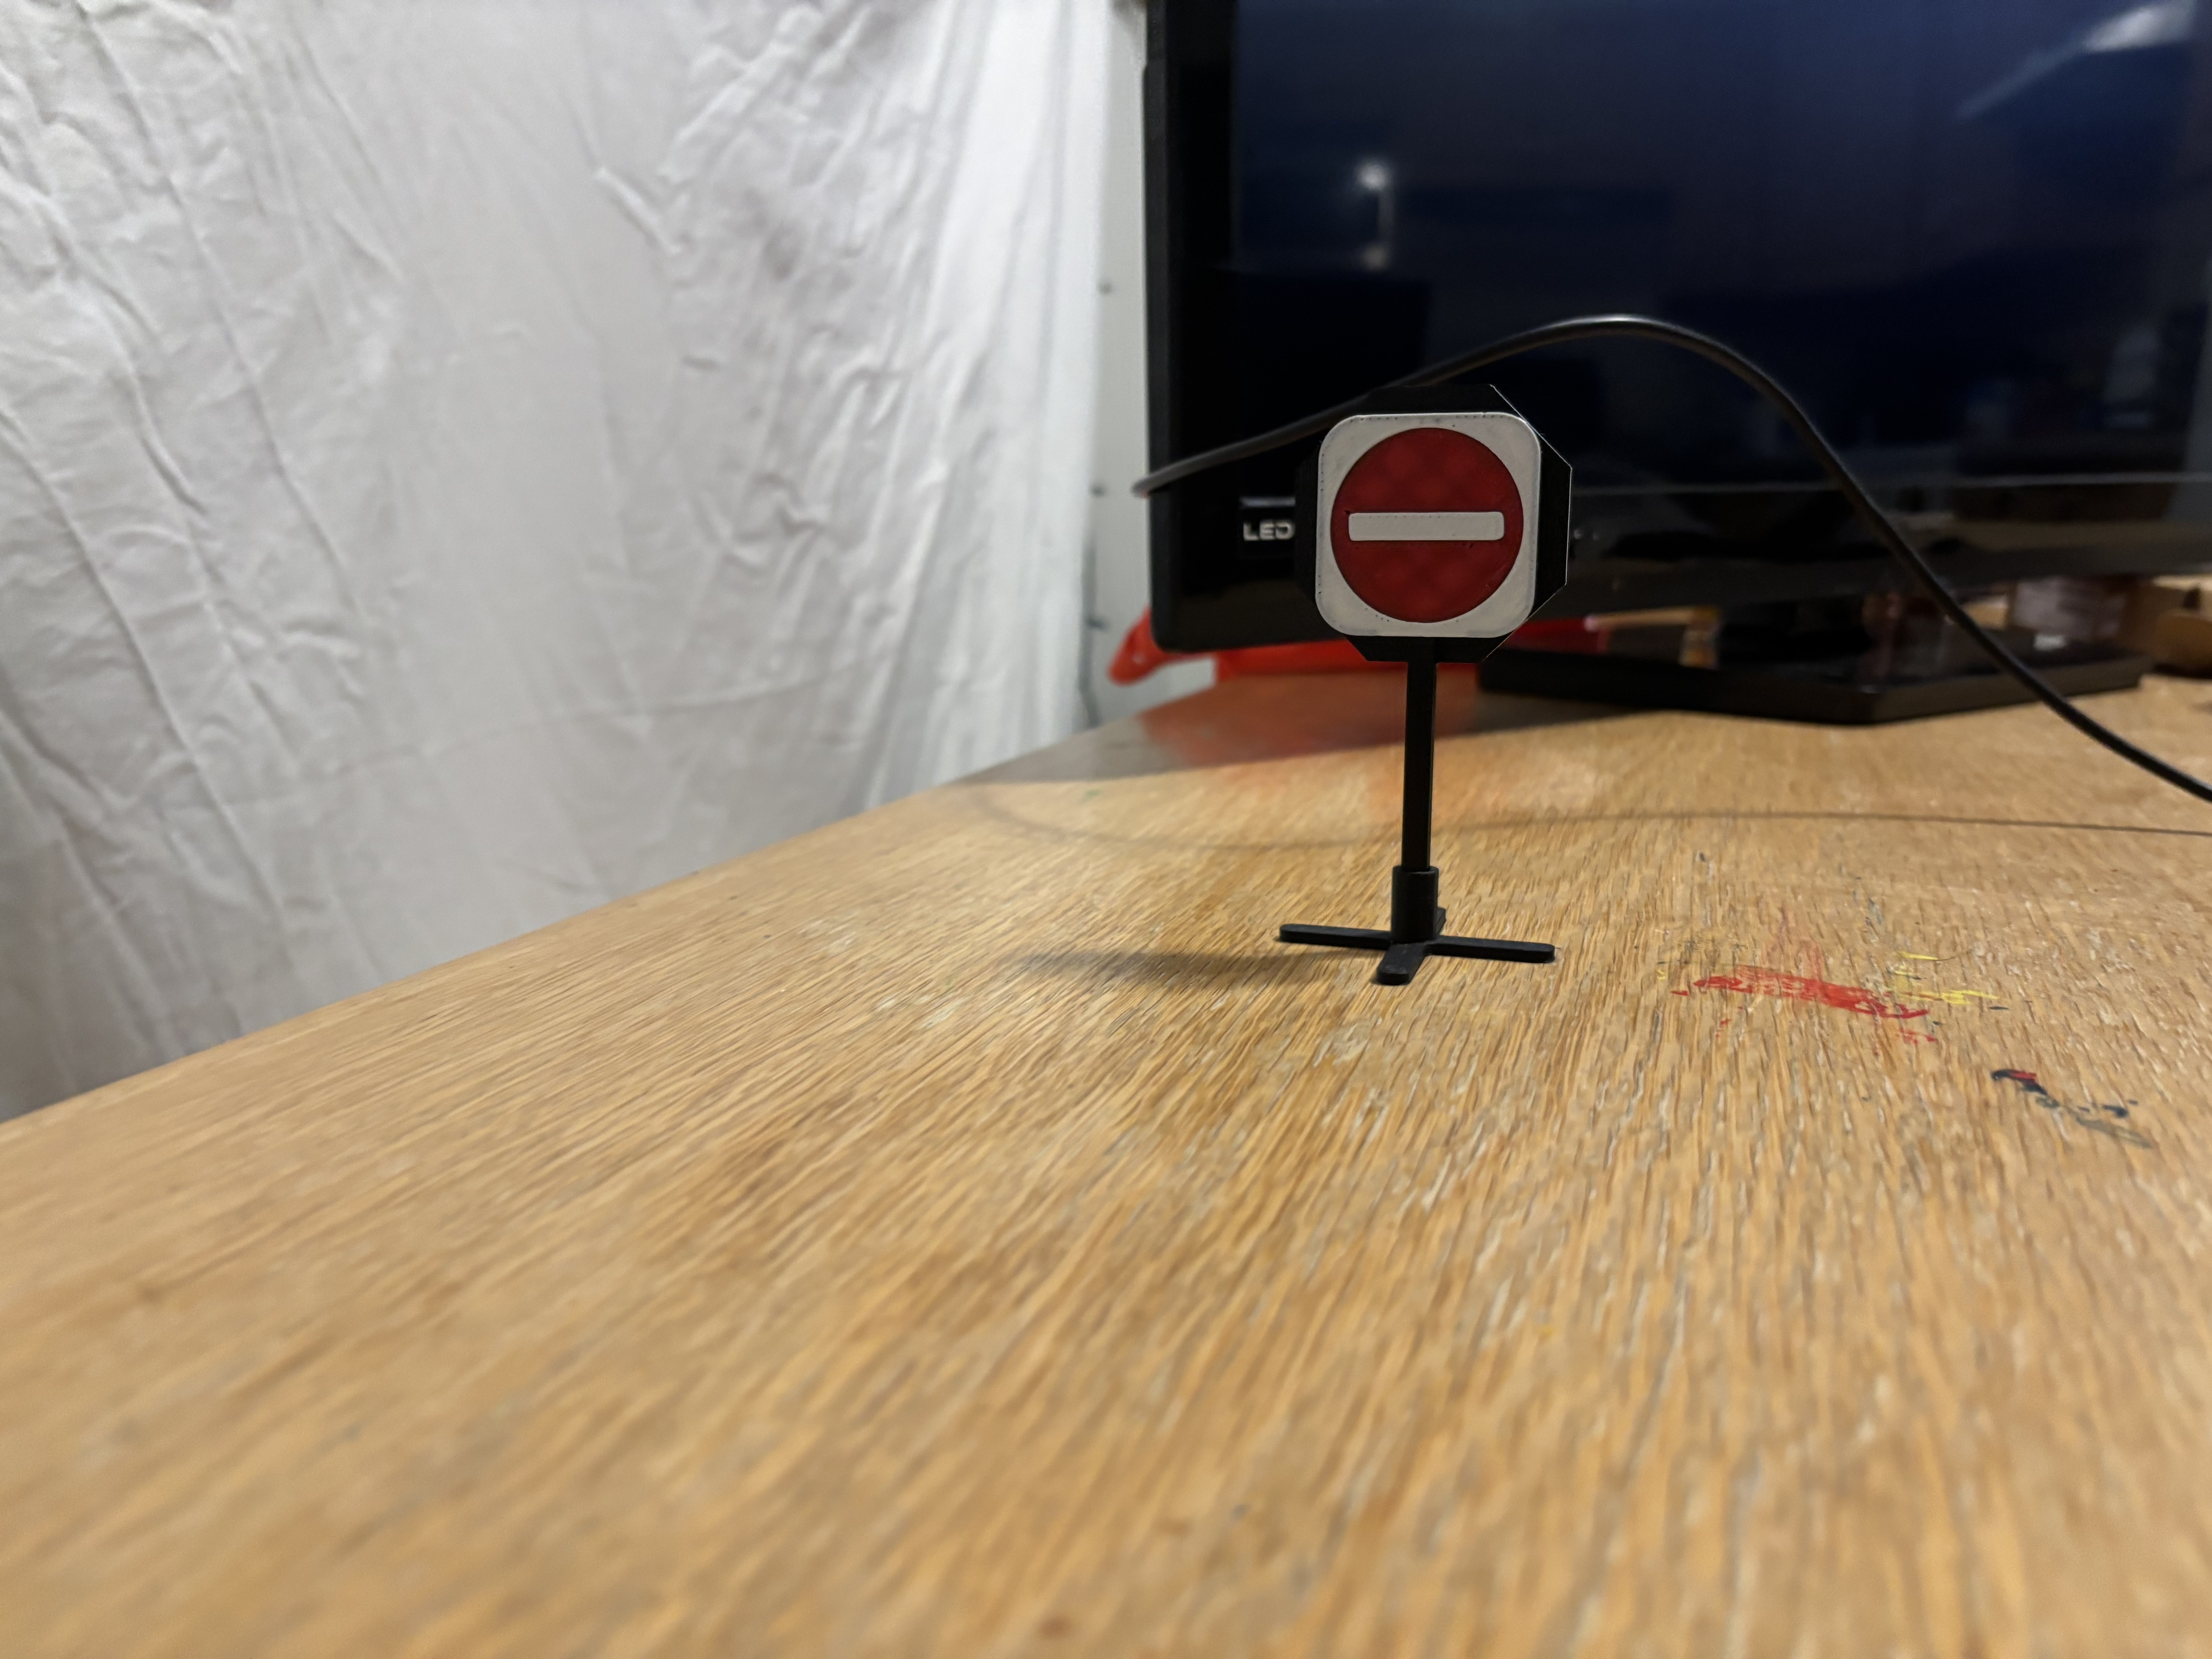sign_noentry: (1306, 399, 1541, 659)
